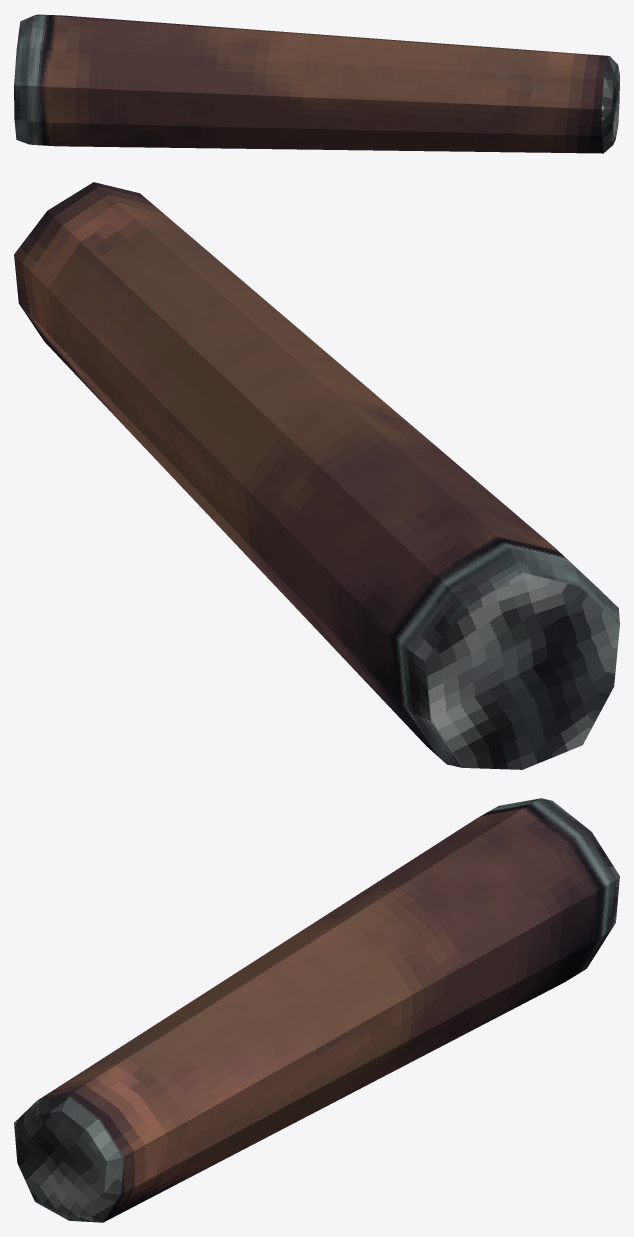
The model's file is kapre_cigar.fbx.
3 renders of one model, top to bottom at view 1: azimuth 30°, elevation 25°; view 2: azimuth 150°, elevation 25°; view 3: azimuth 270°, elevation 25°, orthographic. The views are drawn at different scales.
Visible parts, largest first — view 1: cigar; view 2: cigar; view 3: cigar.
Boxes of the visible parts, box(x1,y1,x2,y2) form: cigar: box(14, 14, 619, 153); cigar: box(14, 182, 619, 769); cigar: box(14, 798, 619, 1222).
Bounding box in the file's own units: 343 × 84.34 × 275.
1 material, 1 textured.
